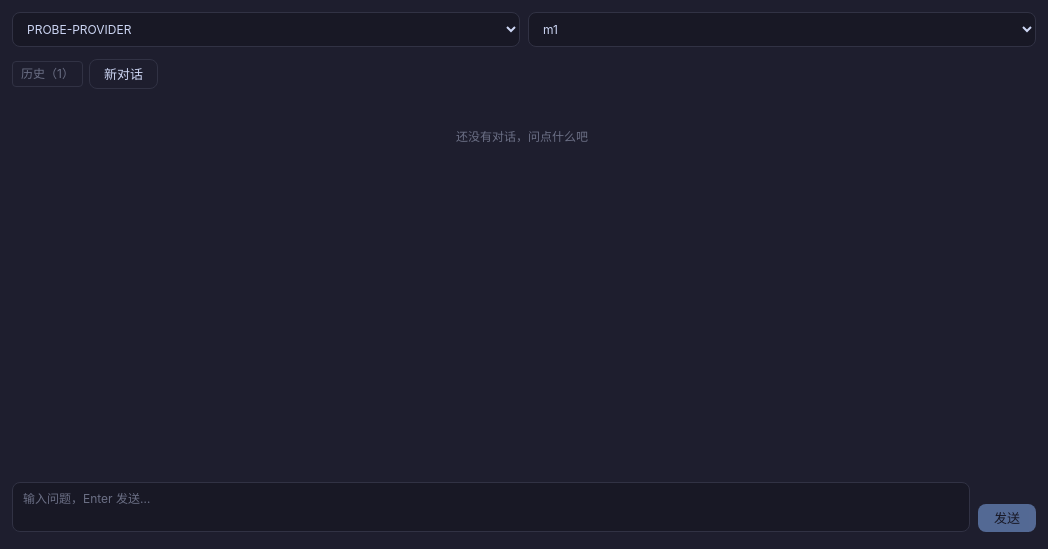
Test: ② 保留策略那一发：「这里显示的是默认值」那句＋它自己的那颗键 › 一发挂掉不许替另一发闭嘴（反向）：历史读到而策略挂 ⇒ 只有策略那句，历史照常列
Click the button "历史（1）".
click(47, 74)  # box [12,61,83,87]
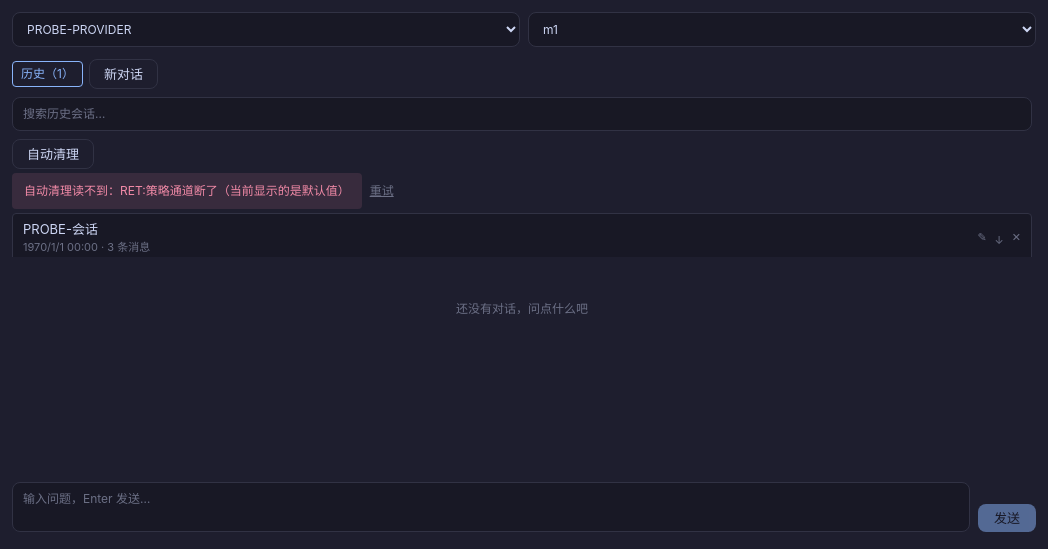
Expected: the text "PROBE-会话" is shown, [23,220,98,236]
